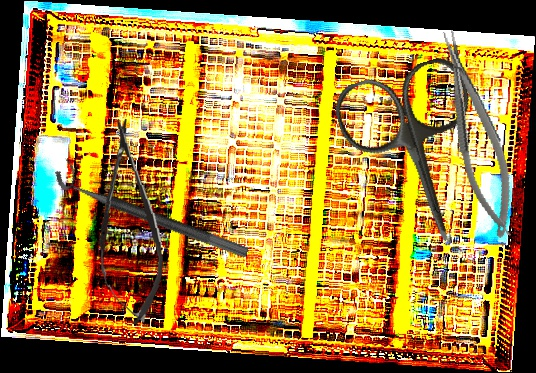Fixation Ring: (50, 156, 256, 260)
Iris Scissors: (329, 52, 508, 261)
Micro Scissor: (89, 117, 168, 326)
Needle Holder: (432, 24, 524, 244)
